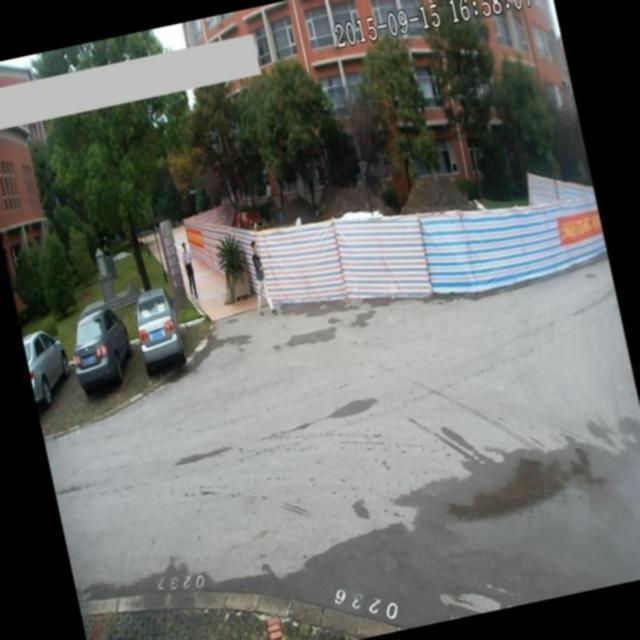person: (243, 236, 280, 320), (176, 234, 204, 300)
